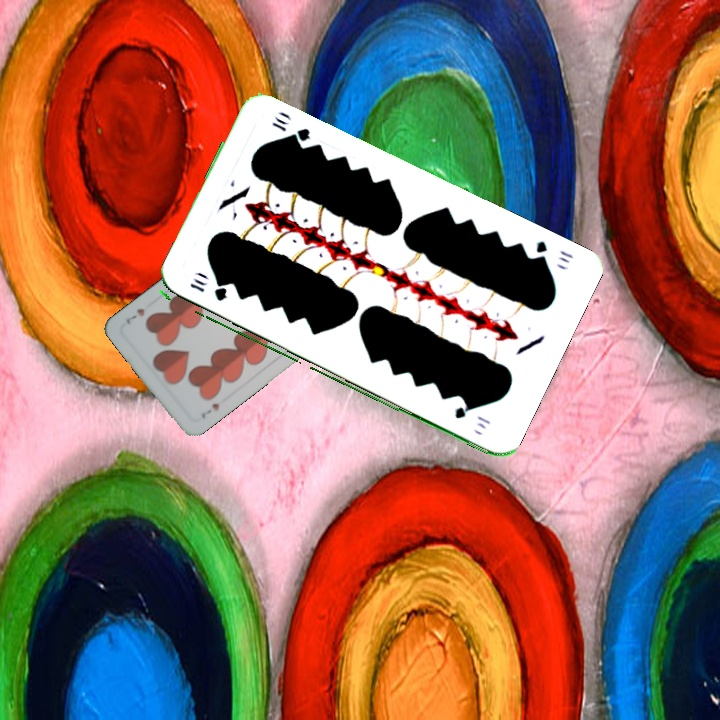G10: (528, 237, 576, 267), (185, 274, 230, 304)
H7: (197, 399, 222, 421)
